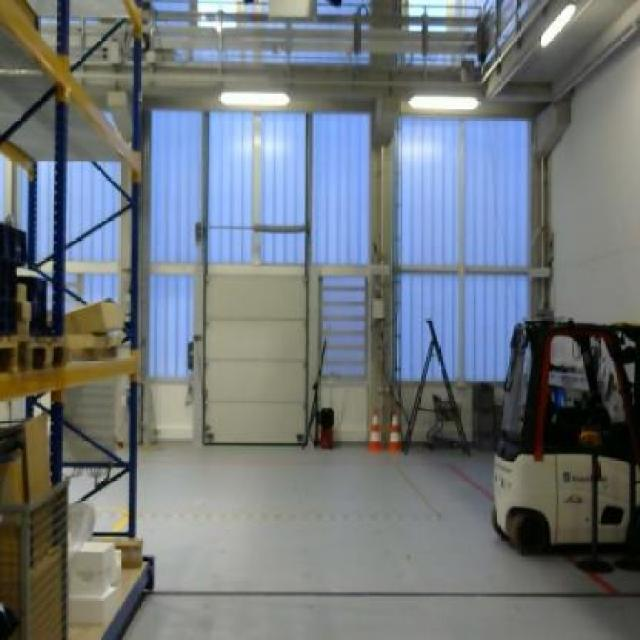box: (63, 298, 126, 334)
